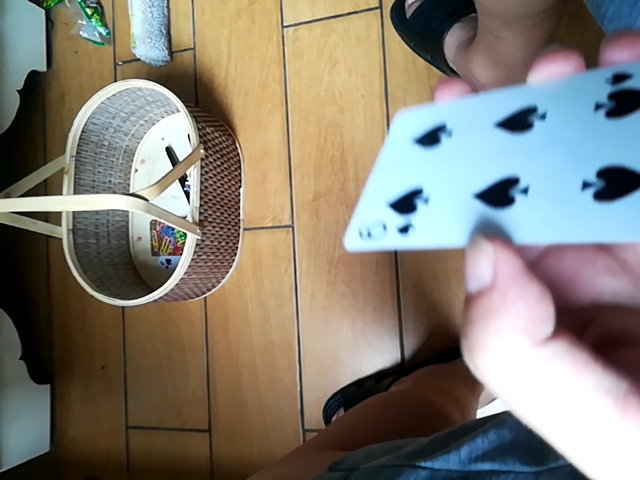ht 6: (346, 65, 636, 254)
